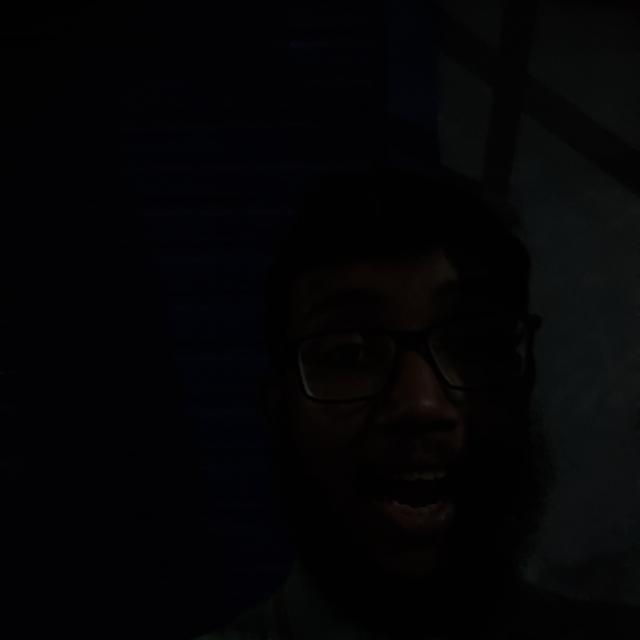Surprised: (283, 227, 582, 578)
